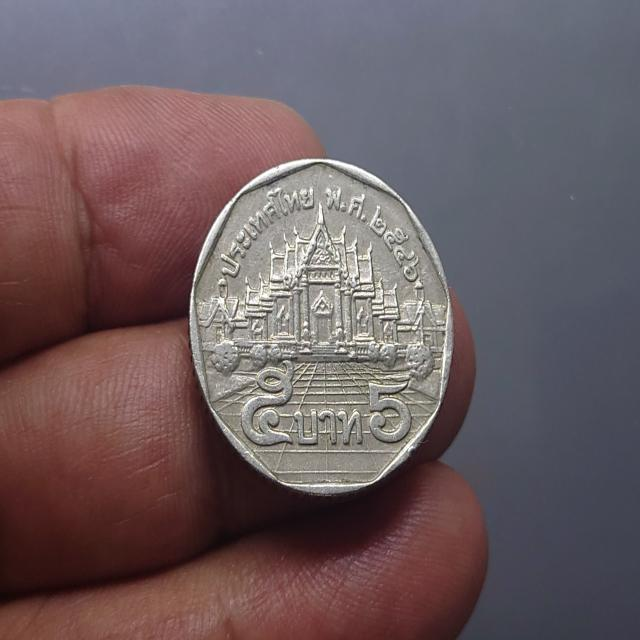5 Bath: (187, 157, 457, 502)
